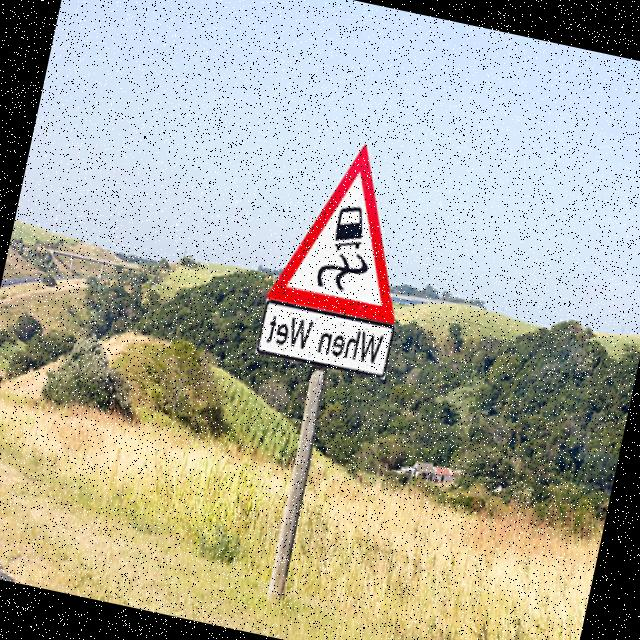road_slippery: (260, 124, 435, 331)
